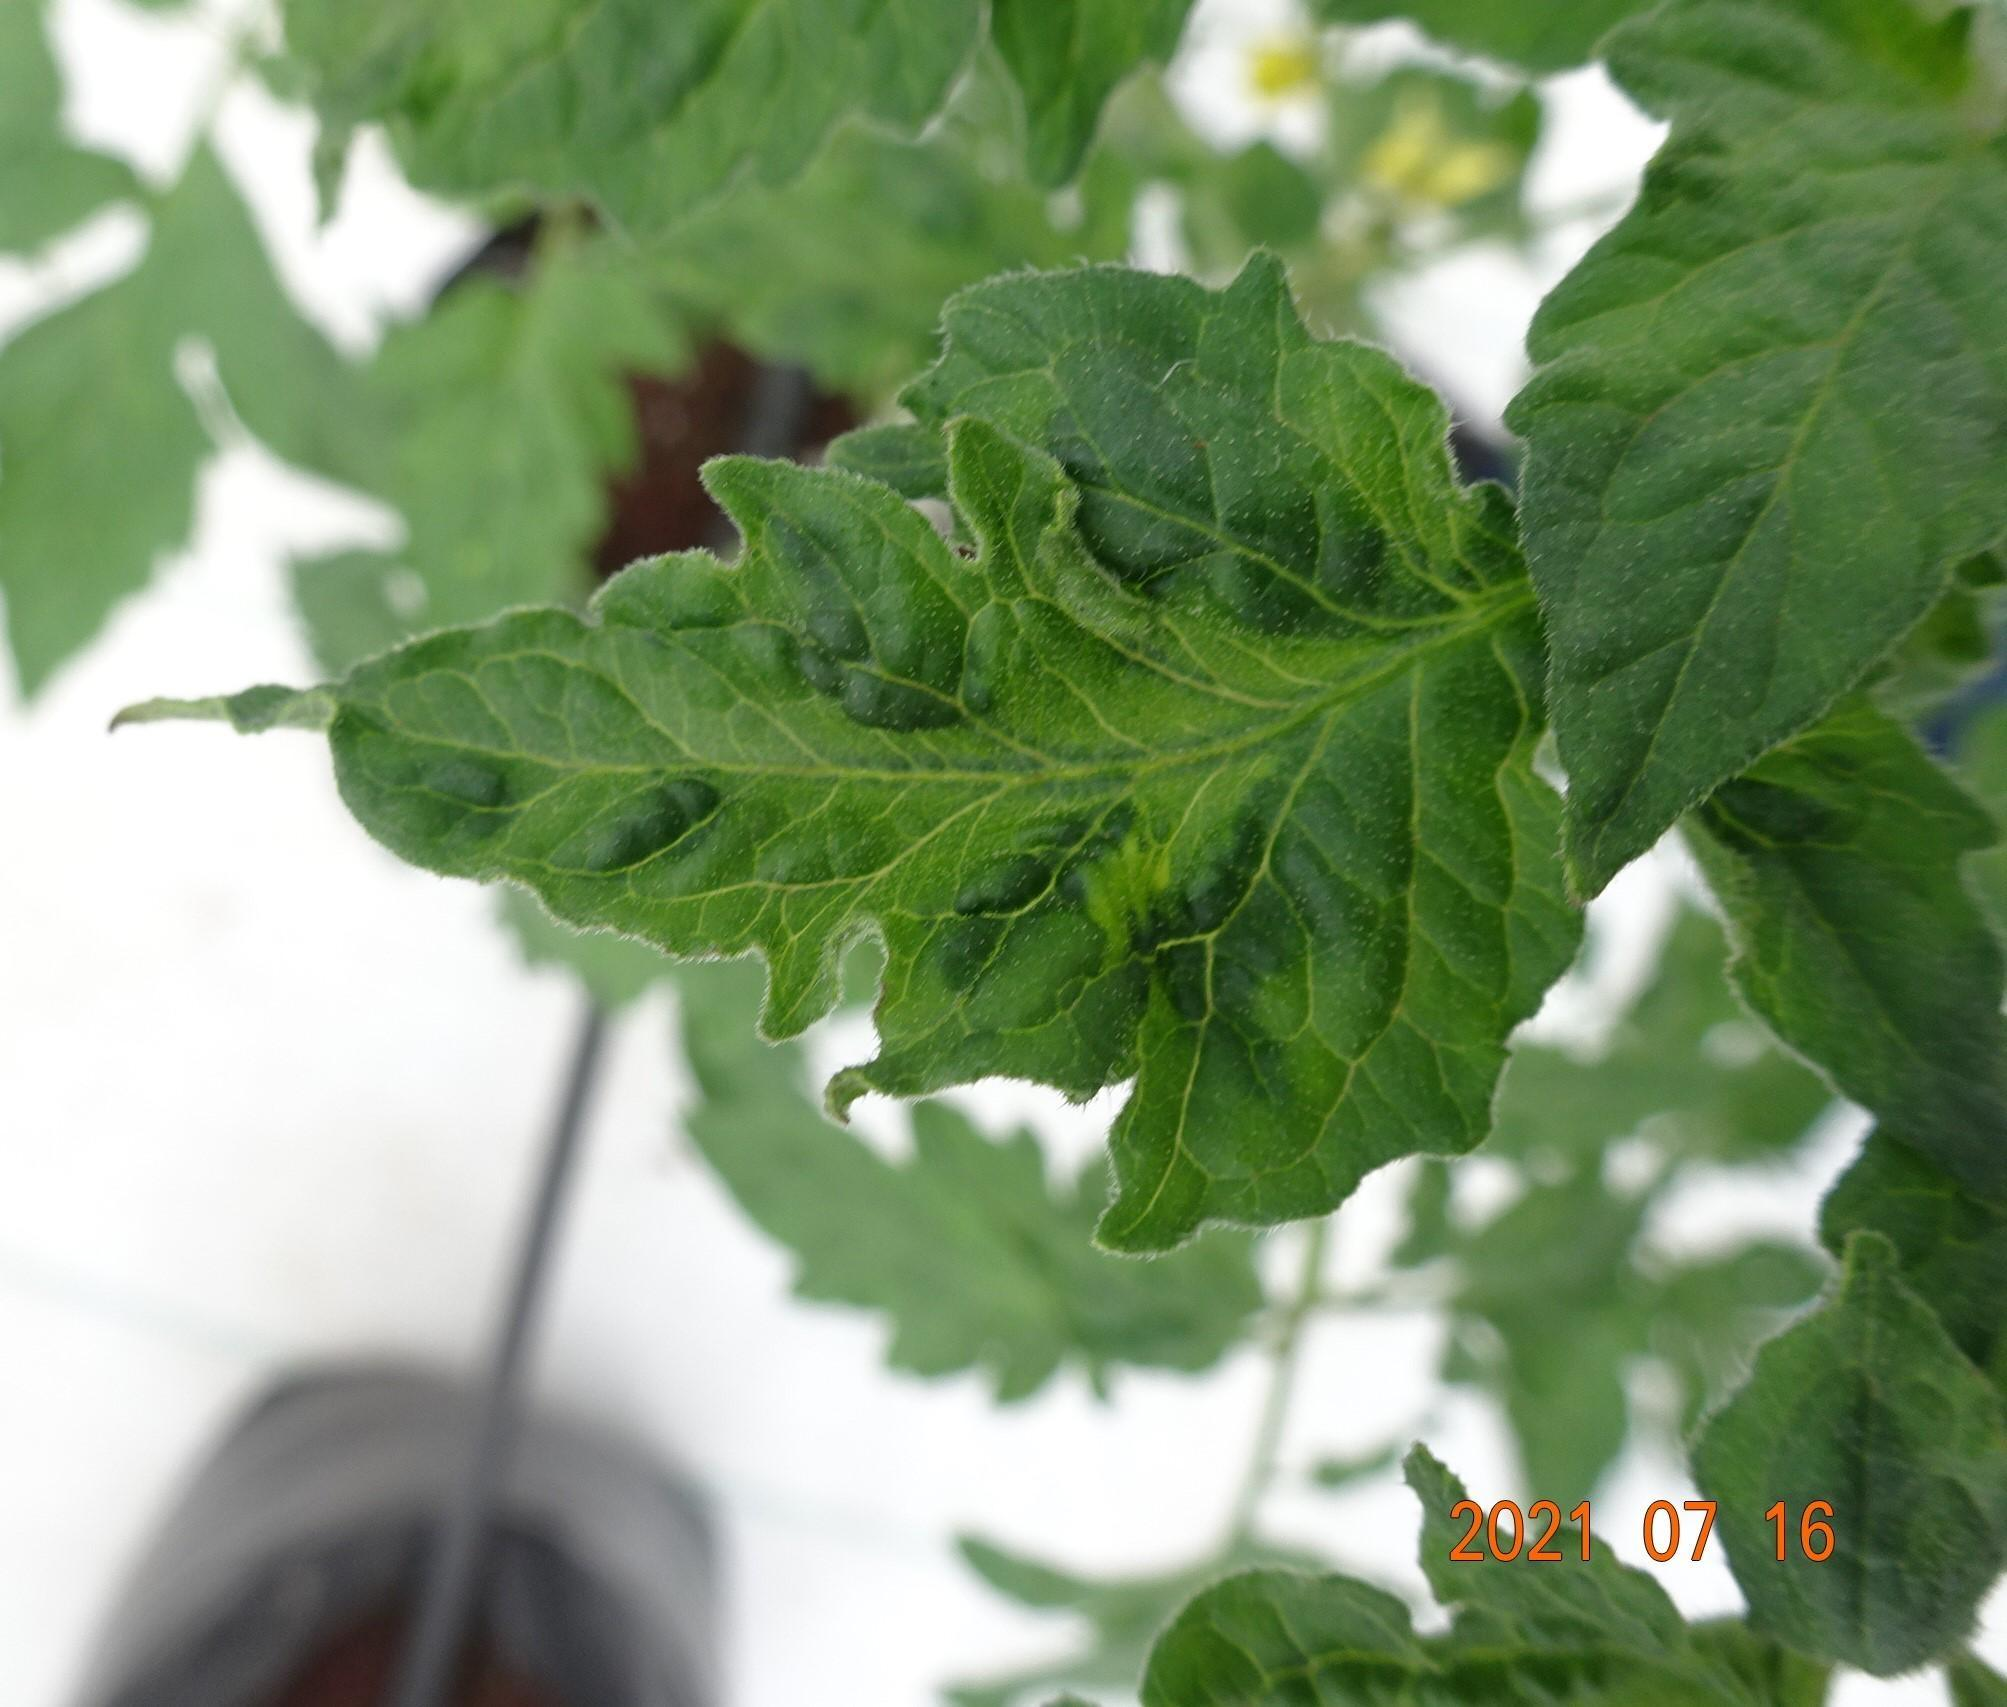Rugose leaf: (325, 257, 1577, 1250), (279, 0, 979, 230), (1822, 1130, 2005, 1378)
